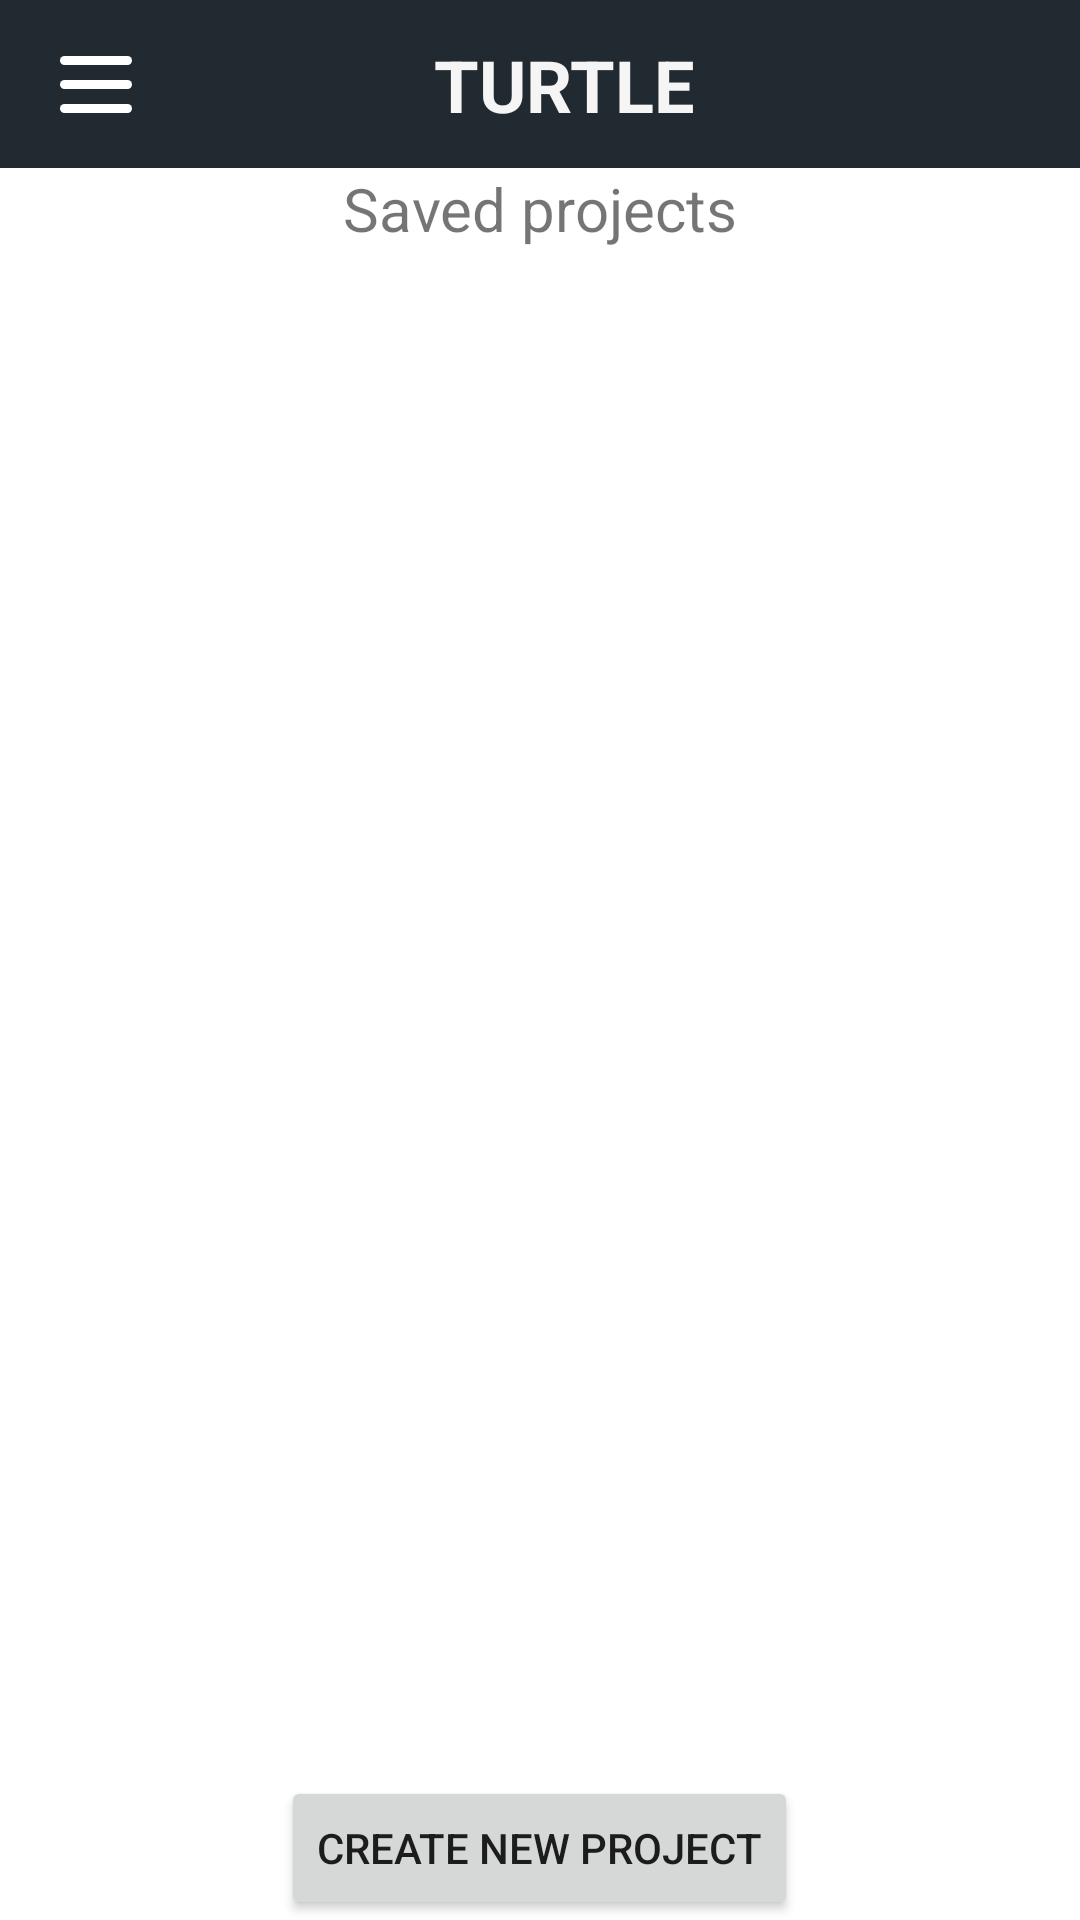

Where to tap for icons on this 1080 × 1920 app screen, as [x,y]:
Menu button: [96,84]
